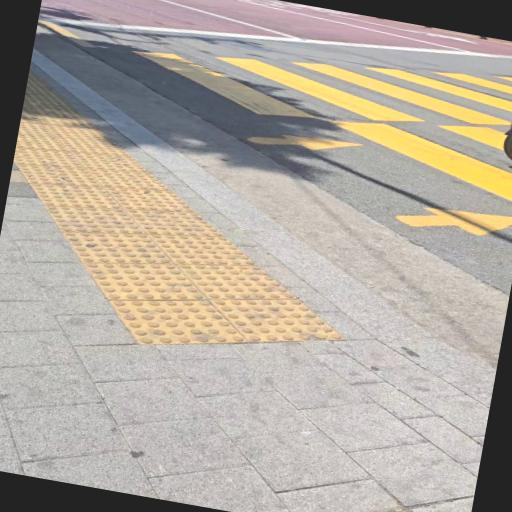yellow-crosswalk: (69, 0, 512, 254)
